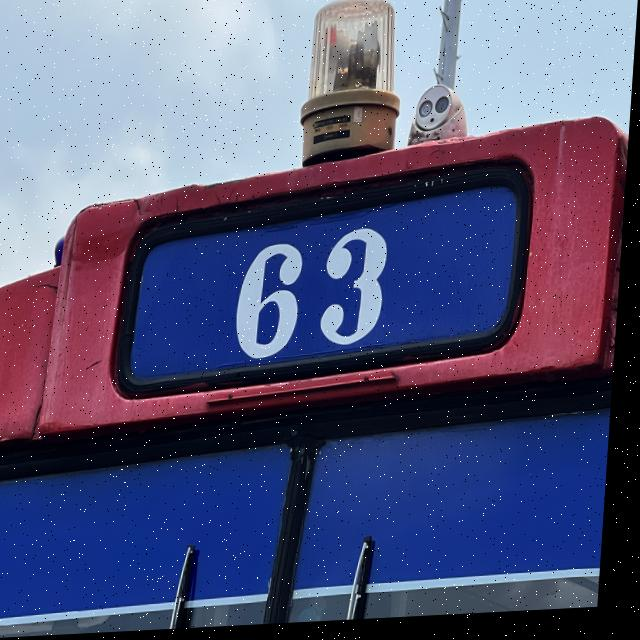BMTA-bus: (0, 0, 639, 640)
Bus-Line-Number: (116, 143, 550, 404)
